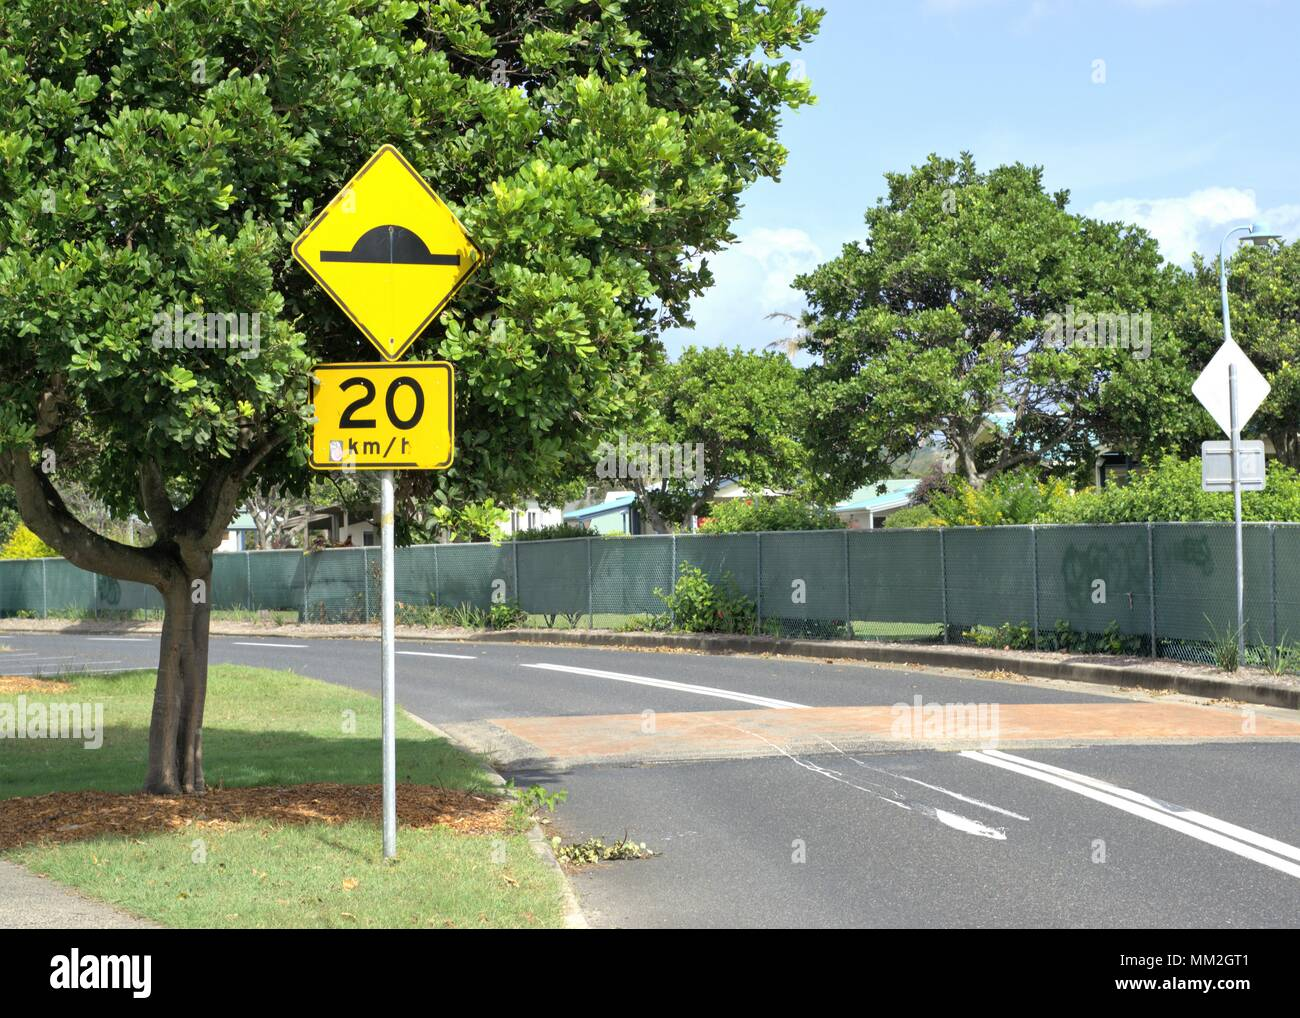speed-breaker: (294, 146, 487, 358)
